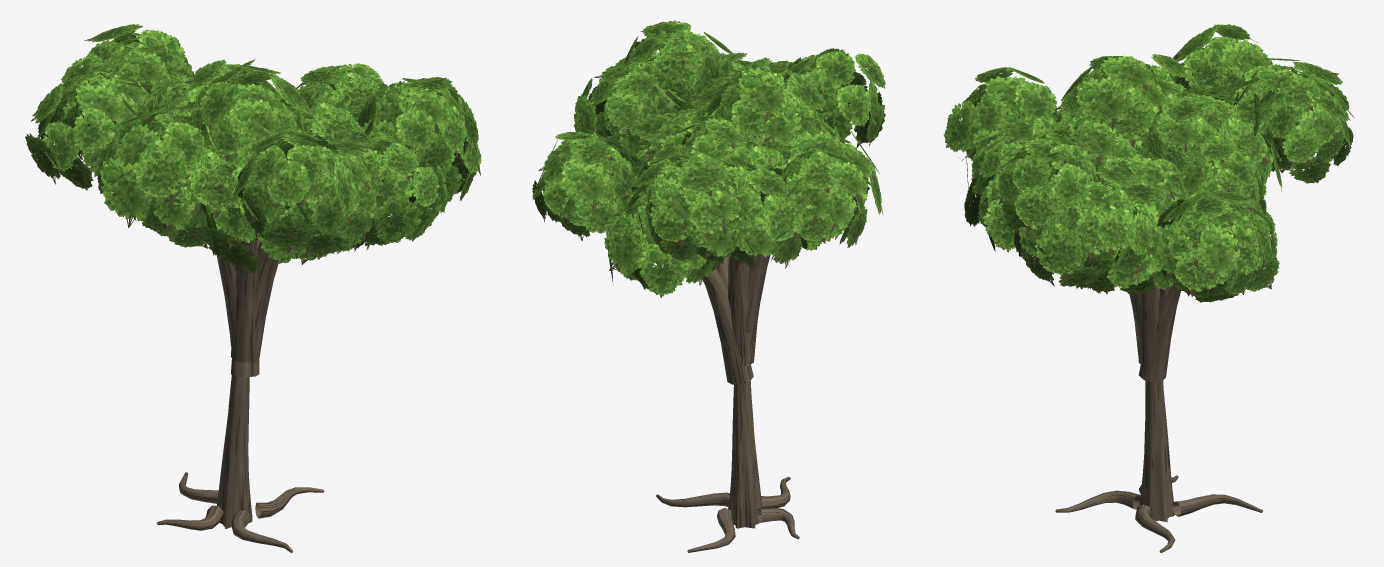
3 views of the same model, side by side, from view 1: azimuth 30°, elevation 25°; view 2: azimuth 150°, elevation 25°; view 3: azimuth 270°, elevation 25° (orthographic). The views are drawn at different scales.
Parts seen in each view (by area): view 1: BigTree-forest-a; view 2: BigTree-forest-a; view 3: BigTree-forest-a.
Part boxes in pixels (left/top/right/bottom): BigTree-forest-a: left=25, top=24, right=481, bottom=552; BigTree-forest-a: left=532, top=20, right=885, bottom=552; BigTree-forest-a: left=943, top=24, right=1354, bottom=552.
Bounding box in the file's own units: 15.13 × 18 × 15.51.
1 material, 1 textured.
